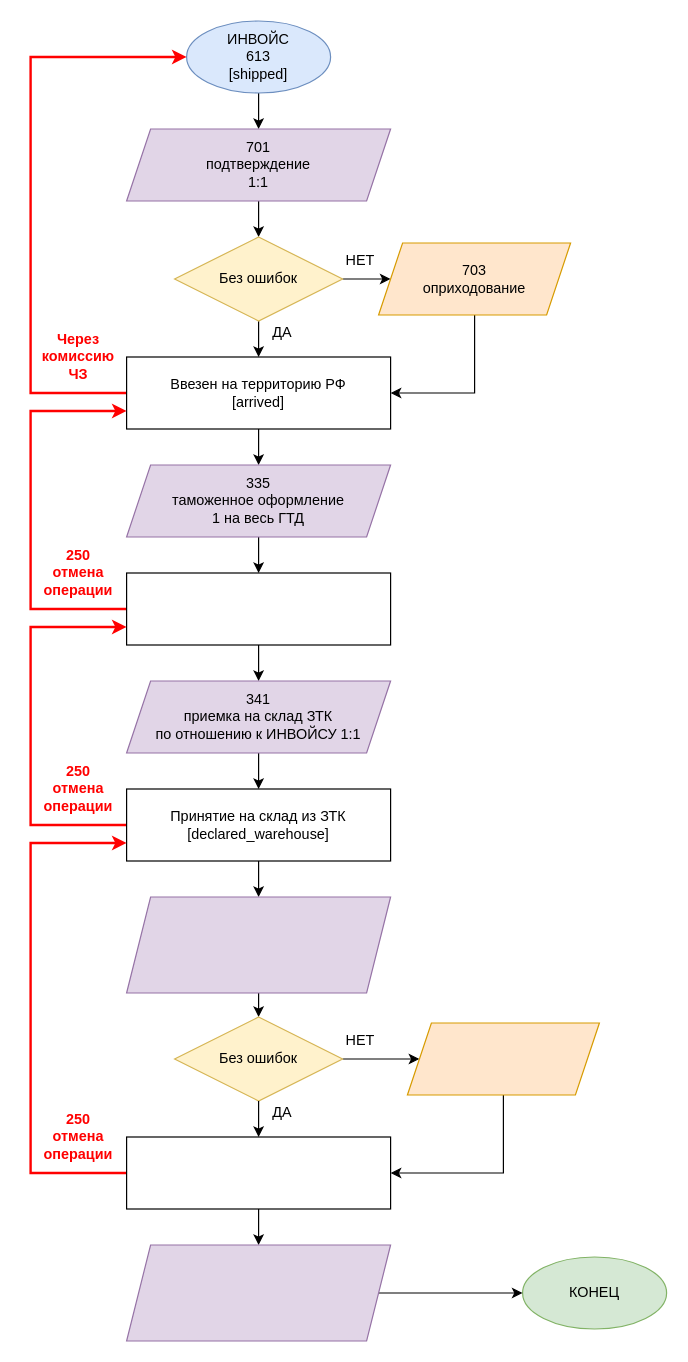
Some shapes in this 688 by 1362 pixel diagram are drawn without their labels. The centre of each missing label's shape, as x and y in pixels:
342 ввод в оборот по отношению к GTIN + Серия + Кол-во 1:1: [258,944]
431 перемещение по складам 1 на весь ГТД: [258,1292]
702 оприходование наши ИНН и КПП: [502,1058]
В обороте [in_circulation]: [258,1172]
Задекларирован [declared]: [258,608]
